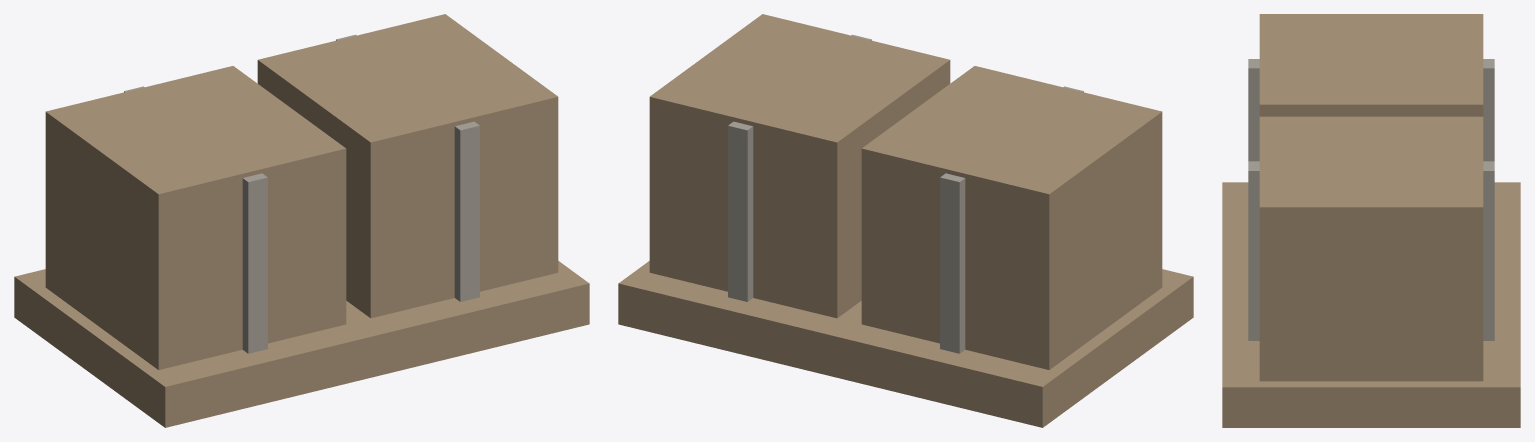
The model's file is MIL_SupplyCrates.fbx.
3 views of the same model, side by side, from view 1: azimuth 30°, elevation 25°; view 2: azimuth 150°, elevation 25°; view 3: azimuth 270°, elevation 25° (orthographic).
Parts seen in each view (by area): view 1: MIL_SupplyCrates_ENV_Wood, MIL_SupplyCrates_MAT_IslandCliff; view 2: MIL_SupplyCrates_ENV_Wood, MIL_SupplyCrates_MAT_IslandCliff; view 3: MIL_SupplyCrates_ENV_Wood, MIL_SupplyCrates_MAT_IslandCliff.
Part boxes in pixels (<box>): MIL_SupplyCrates_ENV_Wood: <box>14,14,589,427</box>; MIL_SupplyCrates_MAT_IslandCliff: <box>124,34,479,353</box>; MIL_SupplyCrates_ENV_Wood: <box>618,14,1193,427</box>; MIL_SupplyCrates_MAT_IslandCliff: <box>728,34,1083,353</box>; MIL_SupplyCrates_ENV_Wood: <box>1222,14,1520,427</box>; MIL_SupplyCrates_MAT_IslandCliff: <box>1248,59,1494,340</box>.
Bounding box in the file's own units: 260 × 127 × 160.
